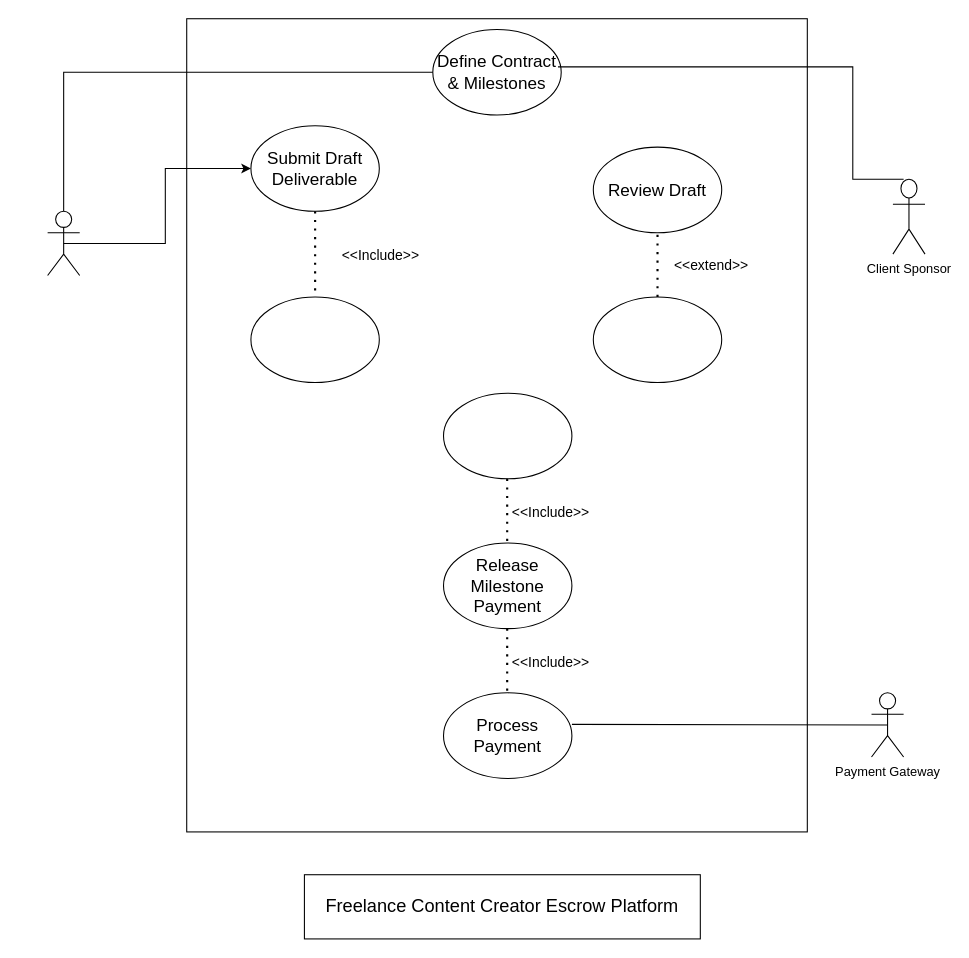
The diagram is 969 pixels wide and 958 high, and some of its shapes have lost their labels. Here are the shapes that lost their labels. From the top down, the box of each, then its label:
(47, 210, 80, 276): Content Creator
(250, 296, 379, 383): Apply Watermark
(592, 296, 722, 383): Request Revision
(442, 392, 572, 479): Approve Milestone
